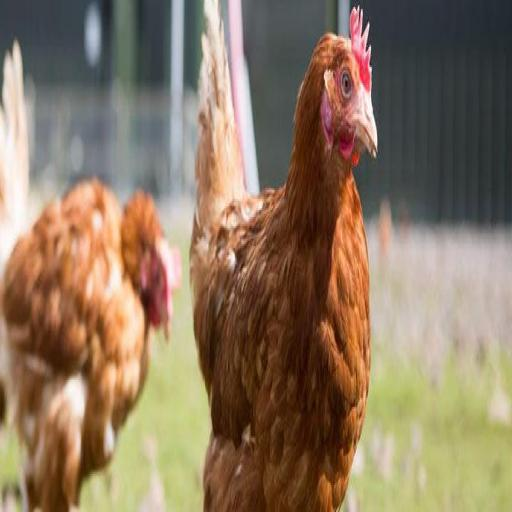disease: (320, 88, 340, 153)
